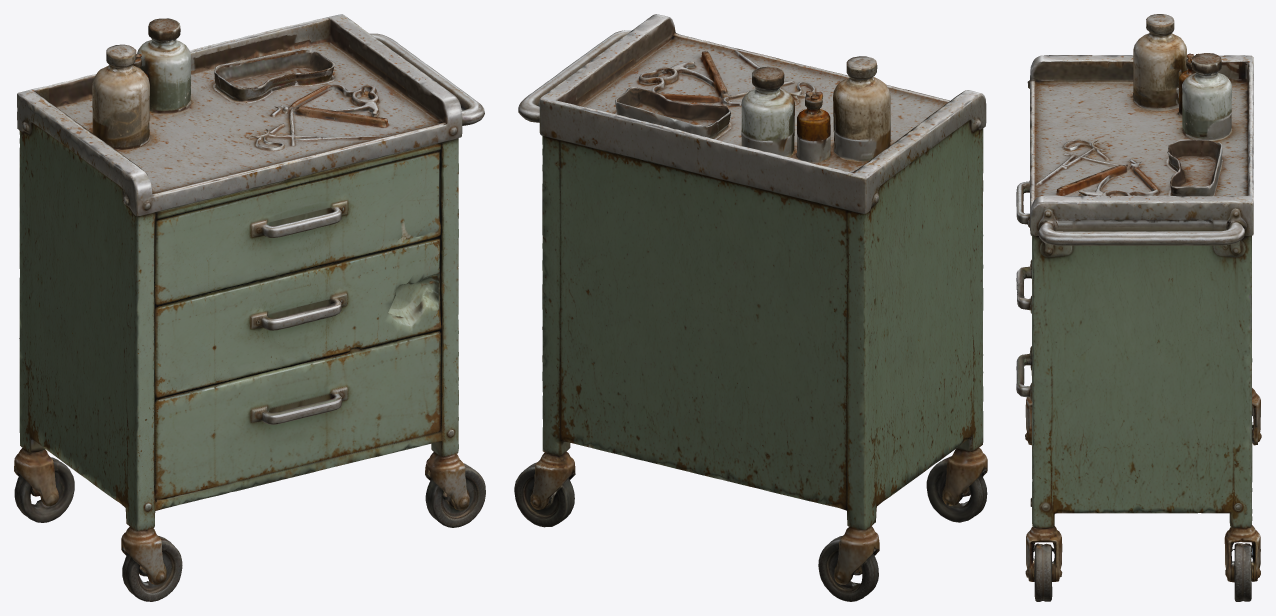
File: MedicineCart.fbx
The picture shows the model from 3 angles, left to right: view 1: azimuth 30°, elevation 25°; view 2: azimuth 150°, elevation 25°; view 3: azimuth 270°, elevation 25°; orthographic projection. The views are drawn at different scales.
Parts seen in each view (by area): view 1: texture_mapping; view 2: texture_mapping; view 3: texture_mapping.
Boxes of the visible parts, box(x1,y1,x2,y2) form: texture_mapping: box(14, 14, 485, 601); texture_mapping: box(514, 14, 987, 601); texture_mapping: box(1016, 14, 1261, 601).
Size of the model in its own units: 0.772 by 0.4834 by 0.995.
1 material, 1 textured.
